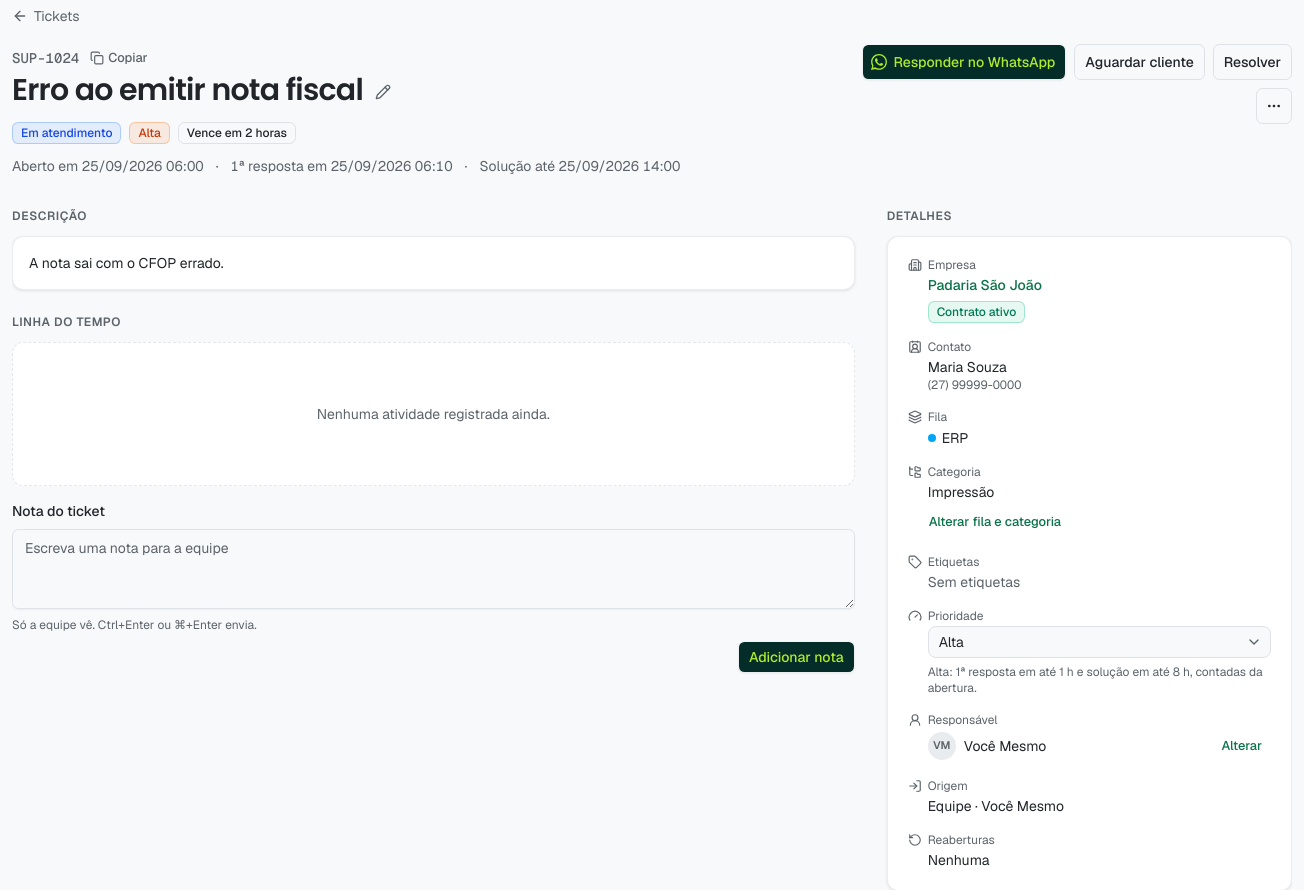
Scenario: TicketDetailView — conflitos › 409 de versão mostra o alerta no topo, avisa por toast e relê a página
Click the button "Resolver".
click(1252, 62)  # box [1213, 44, 1292, 80]
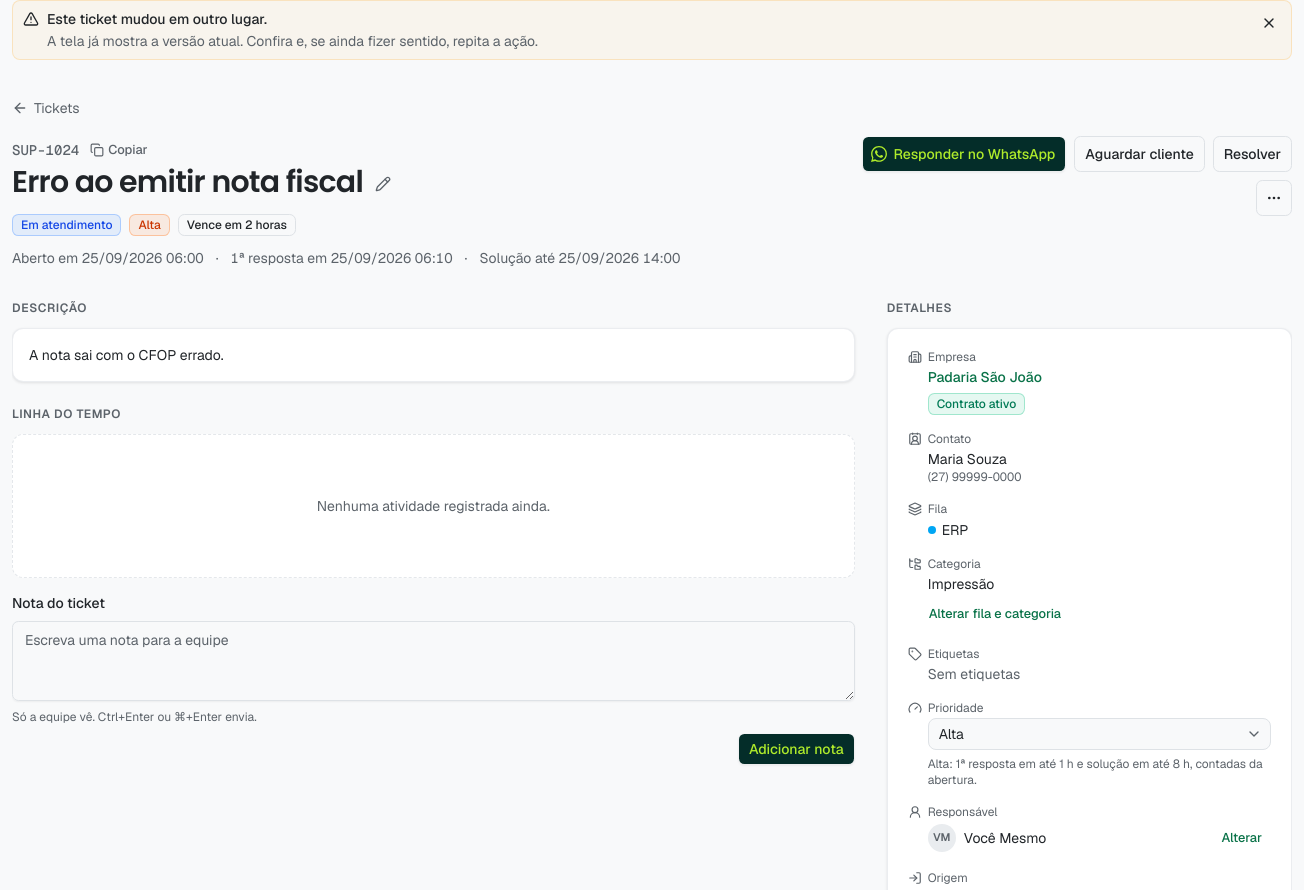
Check: the text "Este ticket mudou em outro lugar." is shown, box [47, 10, 267, 28]
Click the button named "Fechar o aviso".
click(1269, 23)  # box [1255, 9, 1283, 37]
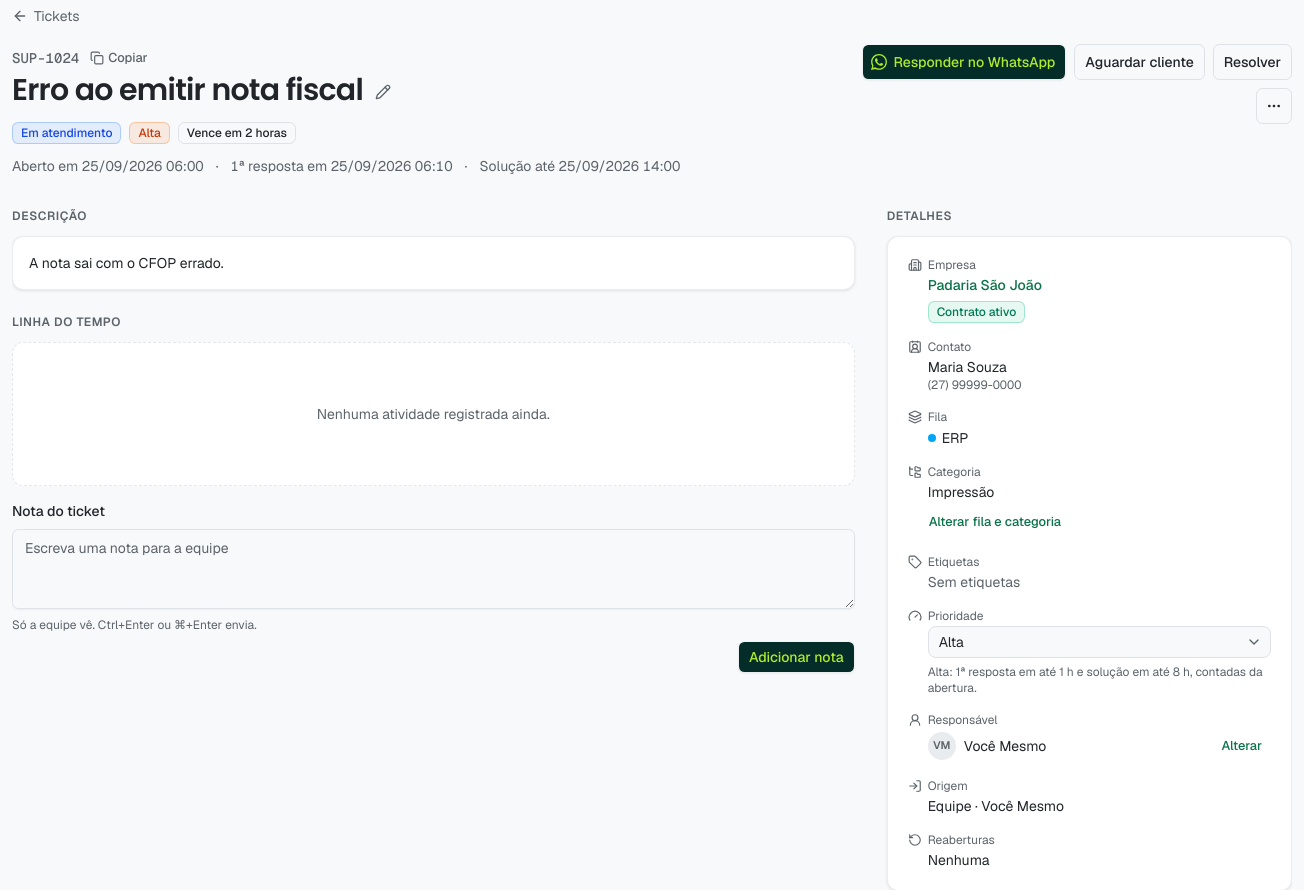
Check: the text "Este ticket mudou em outro lugar." is gone
